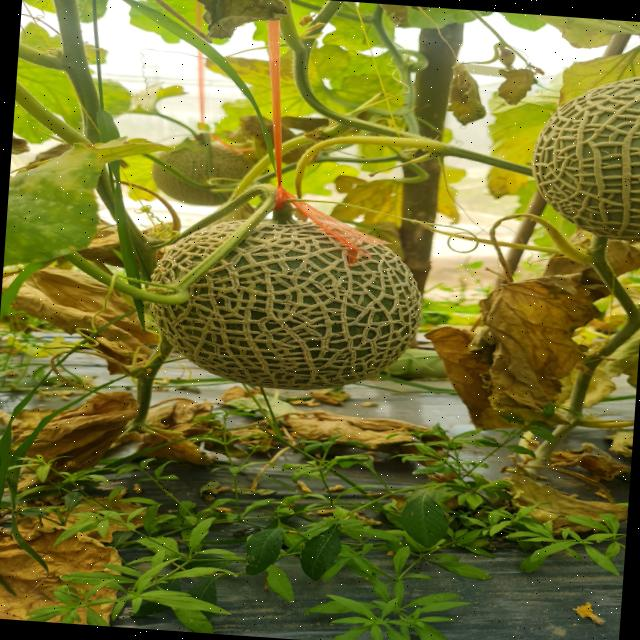melon: (151, 221, 421, 390), (531, 76, 640, 241), (154, 221, 240, 282)
